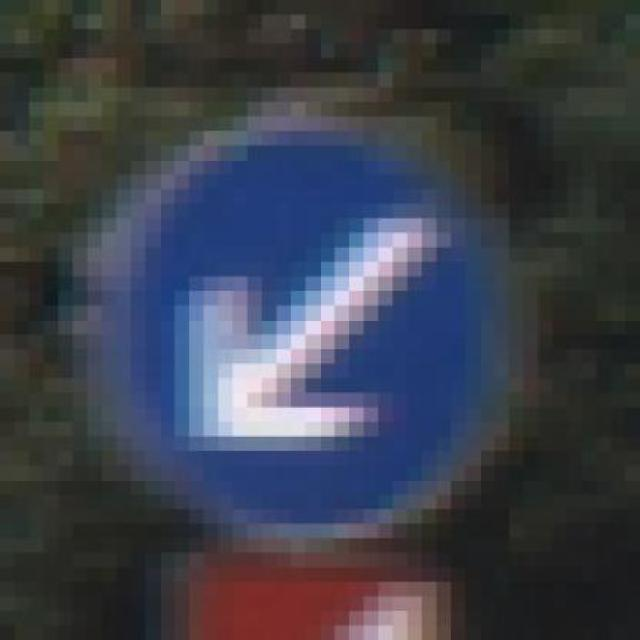Keep-Left: (72, 59, 538, 568)
